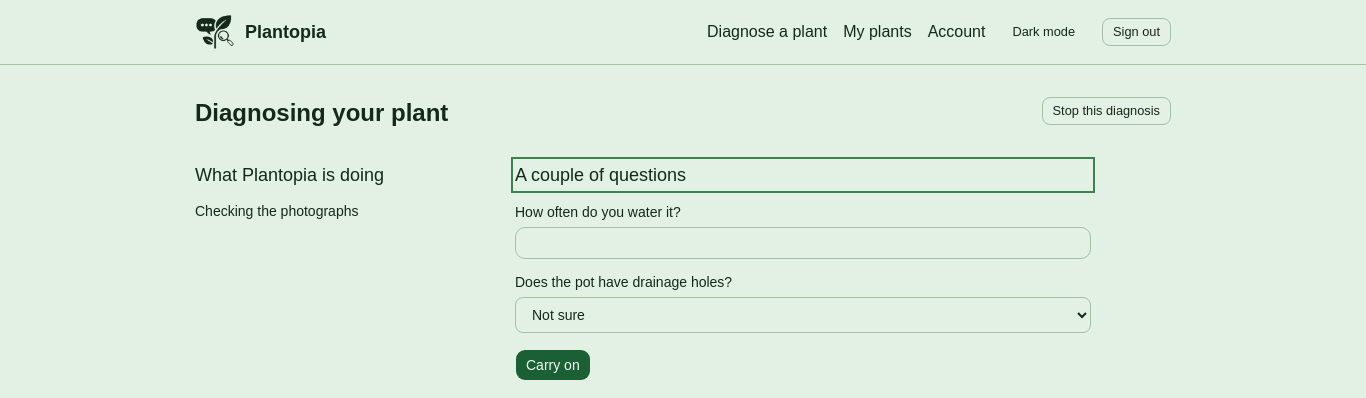
Test: when it asks something › says it is working again once the answers are in
This screenshot has width=1366, height=398.
Type "every other day" into the field labelled "How often do you water it?" at (803, 243), box [515, 227, 1091, 259]
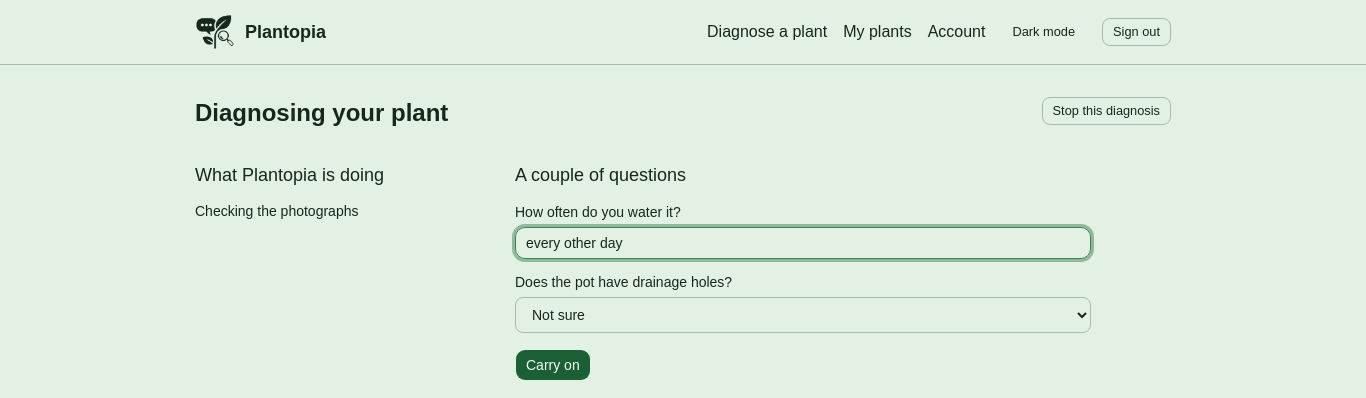
Click the button "Carry on" at (553, 365), box [515, 349, 591, 381]
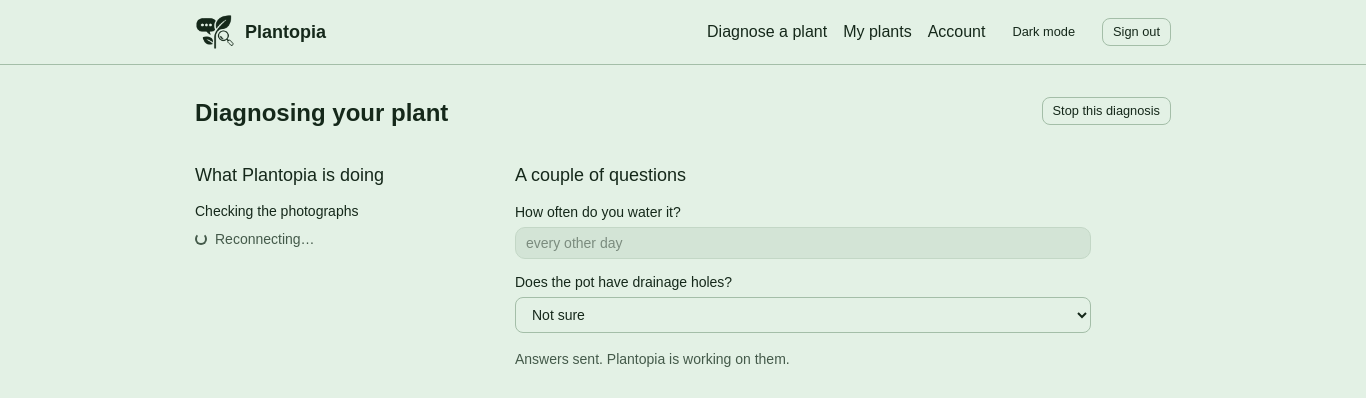
Check: the element with test id "processing-spinner" is shown, box [195, 233, 207, 245]
